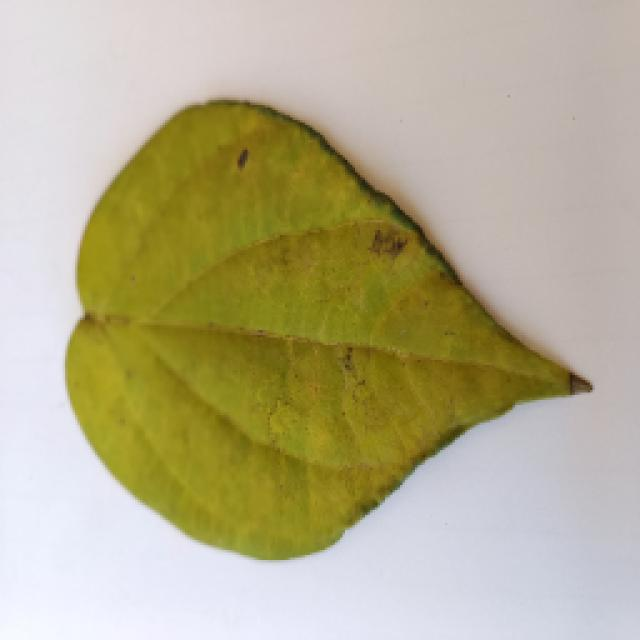slow-decline: (38, 100, 602, 575)
